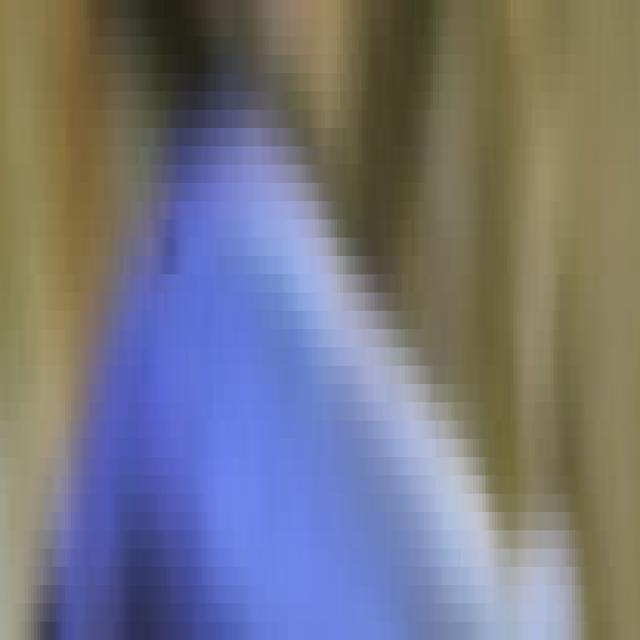fish: (0, 18, 637, 640)
